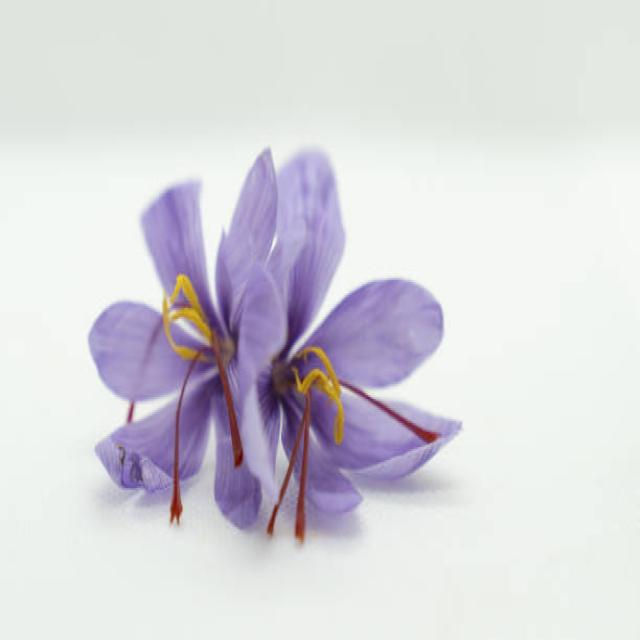saffron open: (240, 151, 460, 512), (90, 152, 276, 526)
